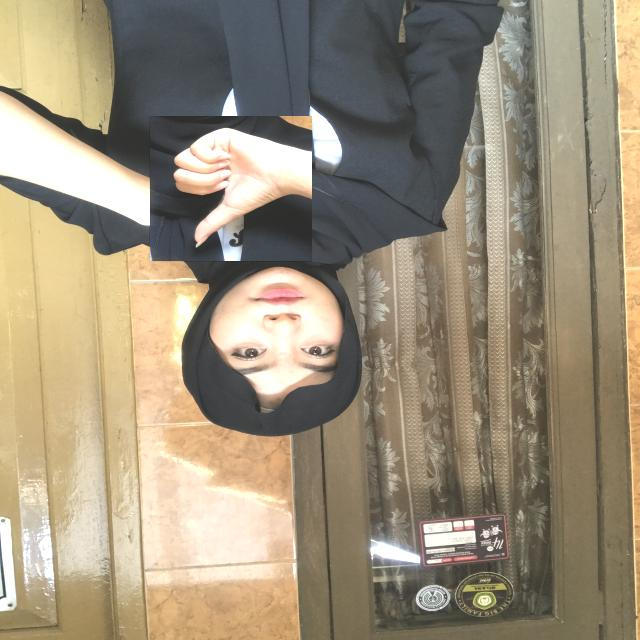sedih: (149, 116, 312, 262)
